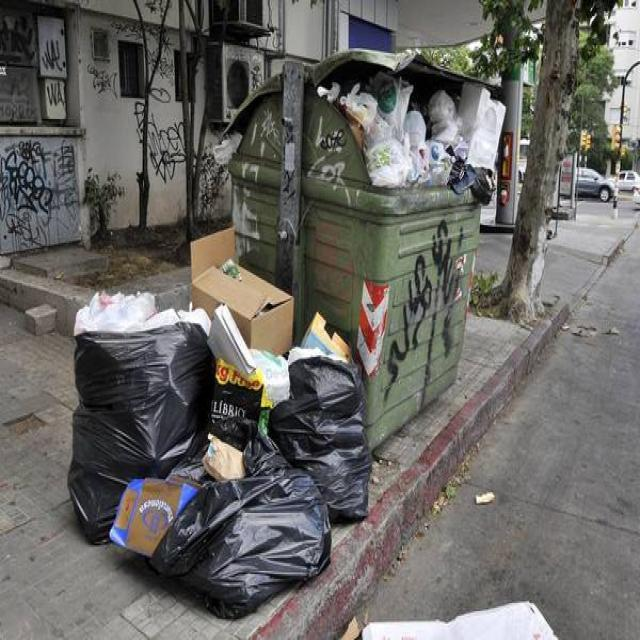garbage: (70, 288, 376, 603), (308, 56, 512, 206)
